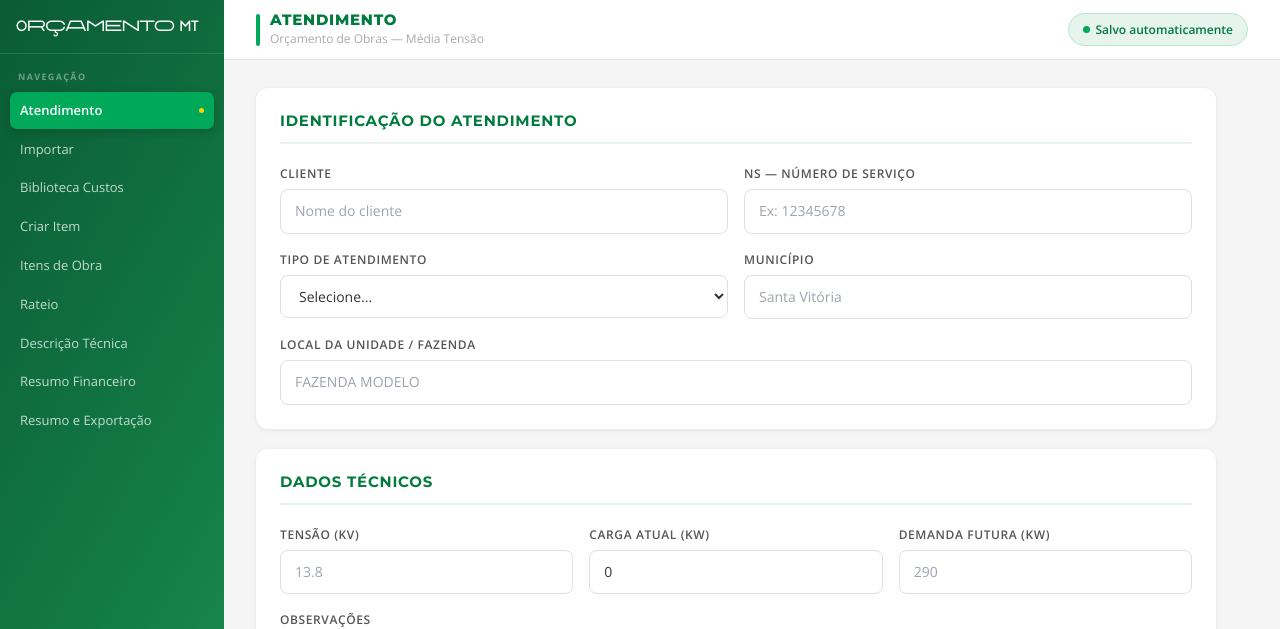
it: Etapa 6 — tela Criar Item › a aba aparece no menu, depois da Biblioteca
Expected: the text "Criar Item" is shown, [20,217,80,235]
Click the button "Criar Item": (112, 227) [10,208,214,245]
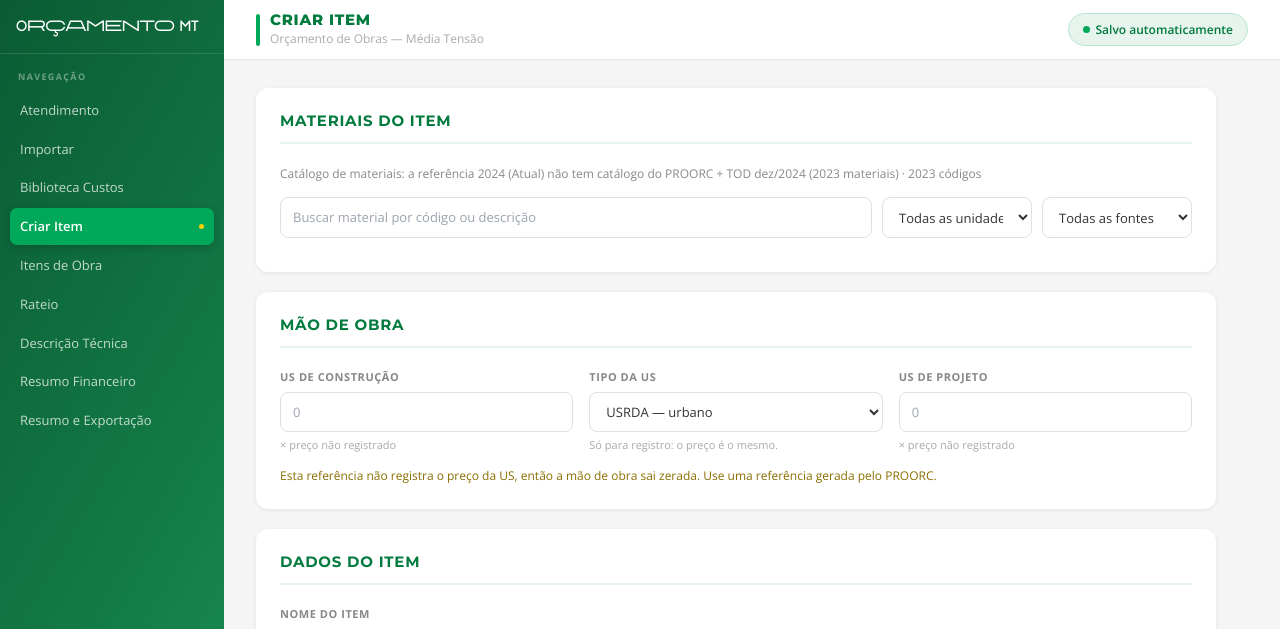
Expected: the heading "Materiais do item" is shown, [280,112,1192,144]
